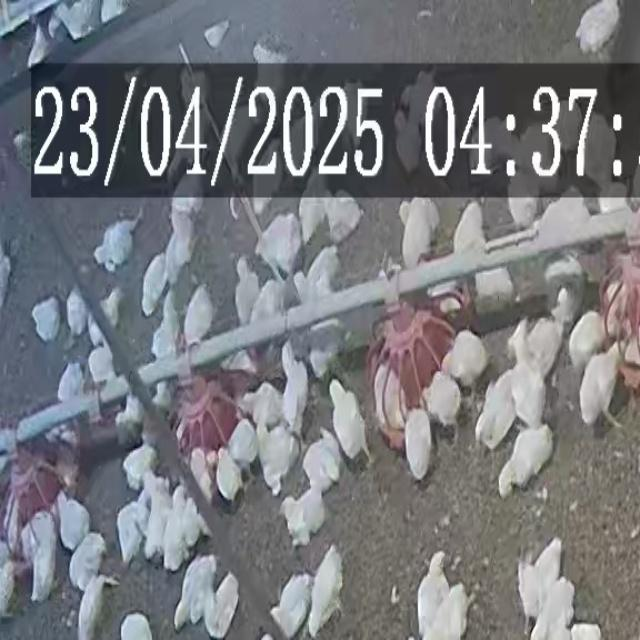chicken: (578, 341, 624, 431), (496, 424, 554, 495), (530, 196, 592, 254), (326, 382, 372, 459), (254, 211, 303, 282), (307, 546, 344, 637), (175, 555, 217, 634), (473, 372, 516, 449), (398, 196, 439, 272), (256, 422, 299, 494), (279, 484, 328, 547), (267, 573, 312, 639), (91, 214, 140, 274), (509, 361, 549, 432), (163, 204, 198, 285), (143, 476, 175, 564), (68, 530, 109, 596), (443, 329, 488, 389), (280, 342, 309, 434), (414, 550, 451, 620), (78, 574, 118, 636), (150, 292, 182, 369), (524, 316, 564, 377), (566, 311, 605, 372), (300, 437, 342, 493), (424, 371, 462, 432), (116, 496, 149, 563), (56, 491, 92, 552), (248, 382, 286, 436), (227, 253, 259, 317), (453, 199, 486, 261), (209, 572, 240, 638), (402, 411, 433, 476), (322, 196, 364, 243), (140, 253, 170, 315), (184, 284, 216, 342), (306, 246, 341, 296), (215, 446, 245, 503), (26, 295, 63, 338), (228, 418, 258, 471), (123, 442, 159, 486), (86, 344, 118, 390), (298, 196, 329, 243), (66, 288, 89, 339), (57, 360, 84, 403)
